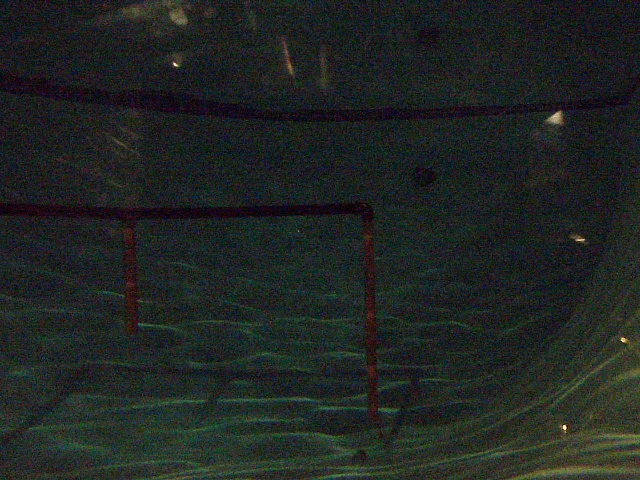Gate: (358, 212, 382, 419), (117, 215, 143, 337)
